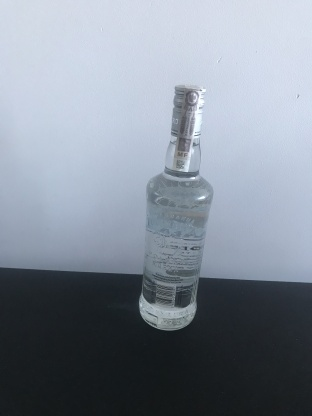nakretka: (169, 80, 208, 142)
